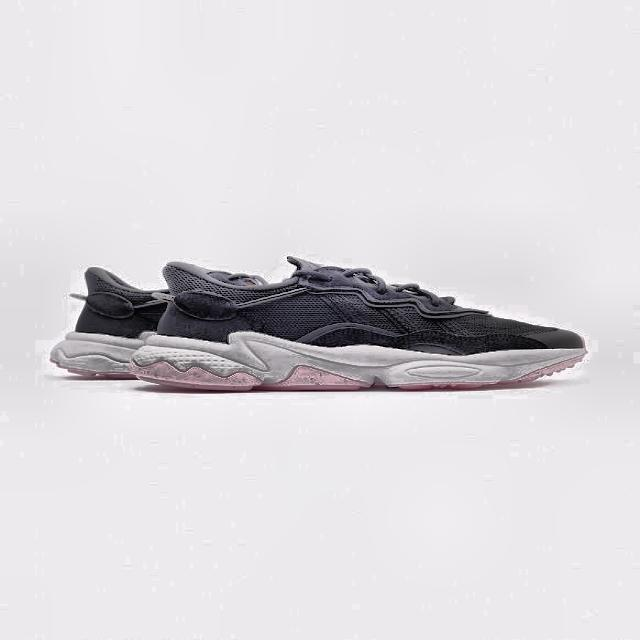Casual_Sneakers: (139, 245, 589, 396)
